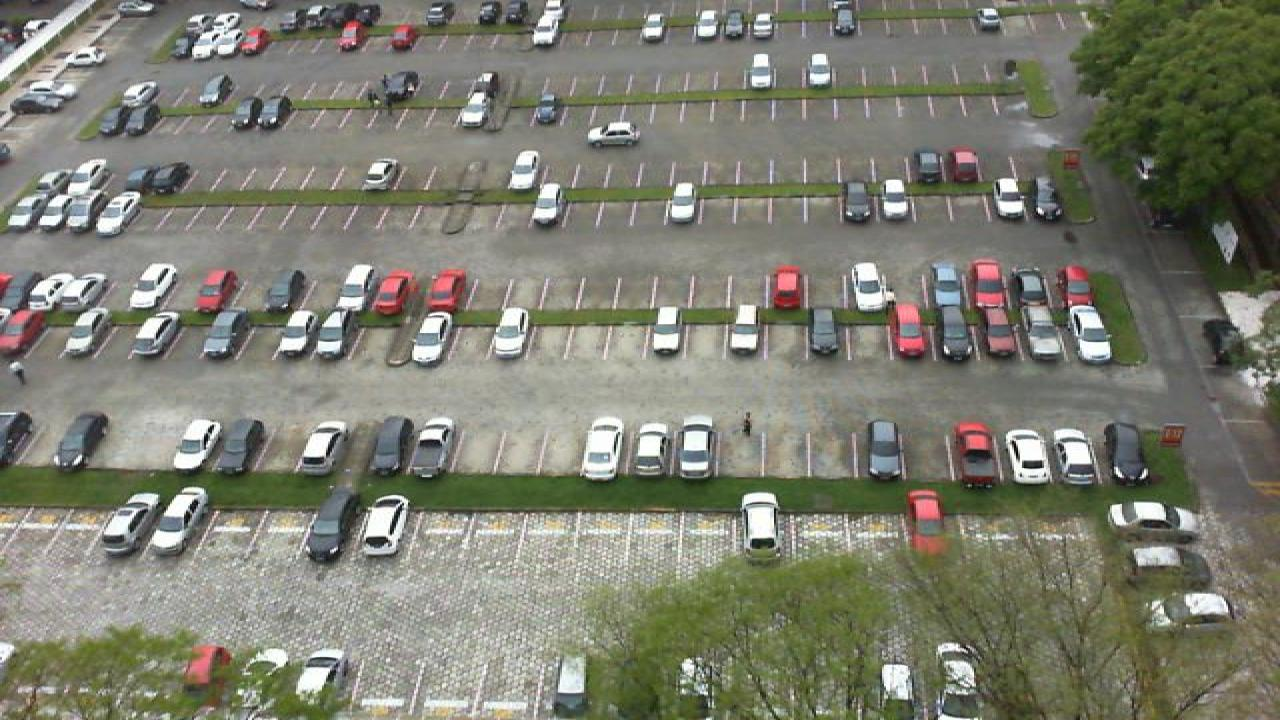Car: (1136, 590, 1236, 631), (302, 485, 354, 562), (152, 485, 208, 555), (98, 489, 152, 556), (1124, 540, 1218, 577), (1104, 500, 1204, 534), (358, 494, 410, 559), (54, 411, 108, 472), (1100, 420, 1152, 483), (292, 419, 348, 477), (670, 412, 718, 479), (1002, 426, 1056, 485), (624, 416, 674, 478), (120, 310, 182, 360), (1064, 304, 1114, 366), (578, 415, 626, 479), (410, 417, 458, 480), (56, 305, 110, 360), (368, 415, 414, 479), (954, 420, 998, 486), (904, 487, 946, 556), (1054, 426, 1102, 486), (198, 308, 252, 361), (740, 491, 782, 559), (218, 417, 266, 475), (170, 417, 220, 472), (406, 310, 454, 366), (270, 308, 320, 361), (88, 190, 142, 239), (1018, 304, 1064, 361), (864, 419, 906, 481), (20, 270, 80, 313), (932, 305, 978, 361), (126, 262, 178, 311), (886, 303, 930, 360), (844, 260, 890, 313), (488, 305, 532, 360), (262, 267, 310, 317), (2, 189, 58, 231), (978, 306, 1020, 361), (192, 267, 240, 315), (0, 307, 46, 357), (422, 267, 468, 317), (926, 258, 970, 310), (334, 261, 378, 313), (966, 259, 1008, 313), (370, 269, 416, 318), (56, 273, 110, 313), (48, 191, 98, 234), (310, 309, 350, 361), (648, 306, 688, 358), (726, 305, 764, 357), (804, 306, 842, 358), (1010, 260, 1048, 310), (768, 263, 806, 312), (372, 68, 422, 105), (138, 161, 194, 193), (528, 181, 568, 225), (990, 176, 1028, 222), (1060, 264, 1096, 310), (62, 158, 108, 194), (1030, 176, 1066, 222), (838, 180, 876, 223), (664, 180, 700, 224), (876, 179, 912, 223), (586, 121, 644, 148), (90, 103, 134, 138), (250, 94, 290, 132), (506, 149, 542, 190), (224, 97, 264, 133), (194, 73, 236, 107), (948, 148, 984, 186), (826, 0, 862, 38), (528, 12, 564, 50), (910, 148, 946, 185), (364, 158, 402, 192), (468, 91, 502, 129), (744, 54, 776, 93), (118, 80, 162, 108), (530, 92, 566, 126), (122, 104, 158, 136), (806, 53, 836, 91), (332, 21, 366, 54), (692, 10, 724, 44), (210, 28, 244, 60), (238, 27, 274, 57), (188, 30, 220, 62), (718, 9, 748, 43), (970, 7, 1006, 35), (168, 30, 200, 61), (638, 12, 668, 44), (388, 22, 418, 53), (748, 12, 778, 40)
